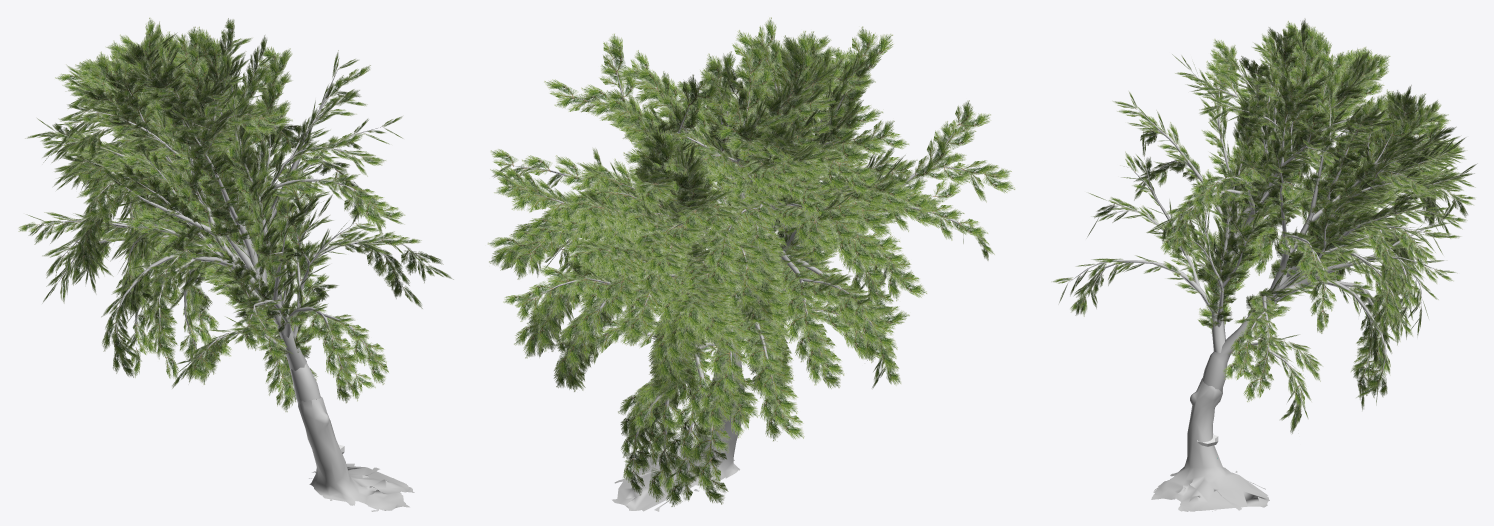
Rendered from Arbol_2.gltf.
3 renders of one model, left to right at view 1: azimuth 30°, elevation 25°; view 2: azimuth 150°, elevation 25°; view 3: azimuth 270°, elevation 25°, orthographic. The views are drawn at different scales.
Parts seen in each view (by area): view 1: leaves, CrazyRootsLOW; view 2: leaves, CrazyRootsLOW; view 3: leaves, CrazyRootsLOW.
Part boxes in pixels (bbox=[...]): leaves: bbox=[18, 17, 453, 411]; CrazyRootsLOW: bbox=[39, 48, 425, 511]; leaves: bbox=[487, 17, 1015, 506]; CrazyRootsLOW: bbox=[512, 60, 983, 511]; leaves: bbox=[1051, 19, 1477, 433]; CrazyRootsLOW: bbox=[1070, 53, 1456, 511].
Size of the model in its own units: 2.34 by 2.81 by 2.63.
